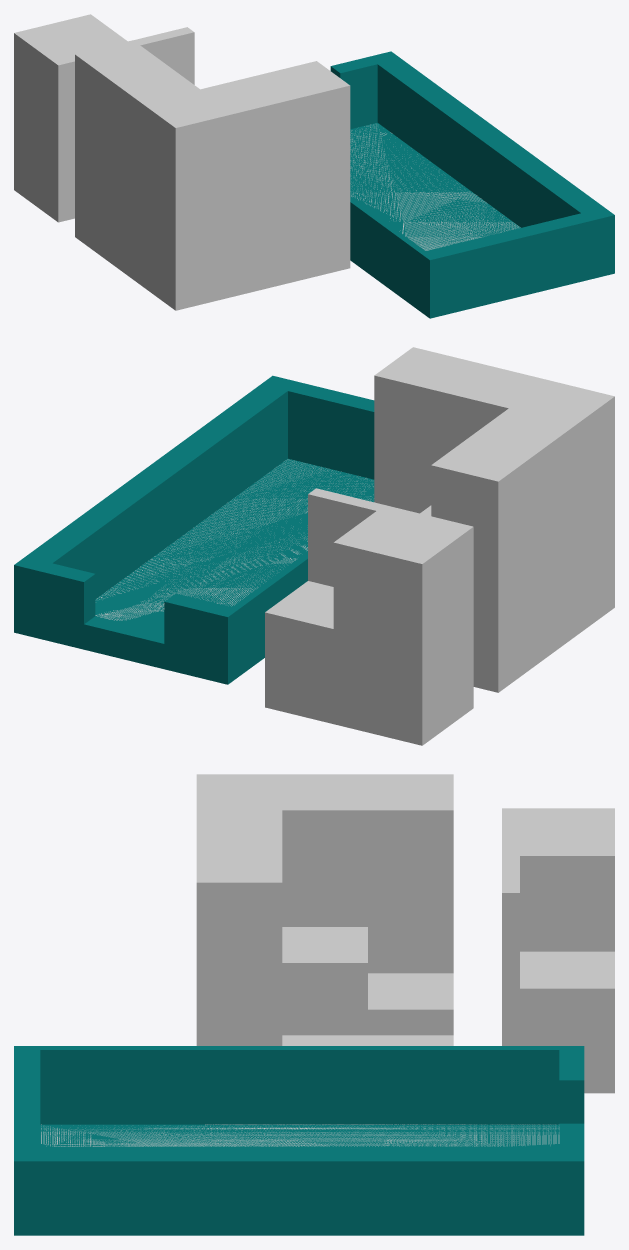
3 renders of one model, top to bottom at view 1: azimuth 30°, elevation 25°; view 2: azimuth 150°, elevation 25°; view 3: azimuth 270°, elevation 25°, orthographic. The views are drawn at different scales.
Parts seen in each view (by area): view 1: SketchUp (×3); view 2: SketchUp (×3); view 3: SketchUp (×3).
Boxes of the visible parts, x1=… form: SketchUp (×3): x1=14, y1=14, x2=614, y2=318; SketchUp (×3): x1=14, y1=347, x2=614, y2=745; SketchUp (×3): x1=14, y1=774, x2=614, y2=1235.
Size of the model in its own units: 82.91 by 92.1 by 39.37.
